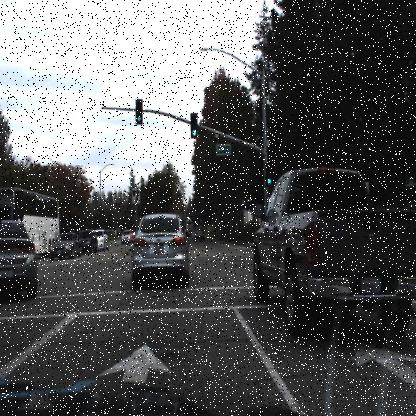car: (254, 167, 415, 341), (132, 217, 188, 292), (50, 232, 81, 260), (78, 229, 98, 256), (96, 226, 110, 249), (194, 221, 206, 241), (120, 229, 133, 245)
trafficLight: (134, 95, 145, 128)
trafficLight-Green: (189, 113, 199, 142), (264, 160, 274, 187)
truck: (0, 189, 62, 255)
